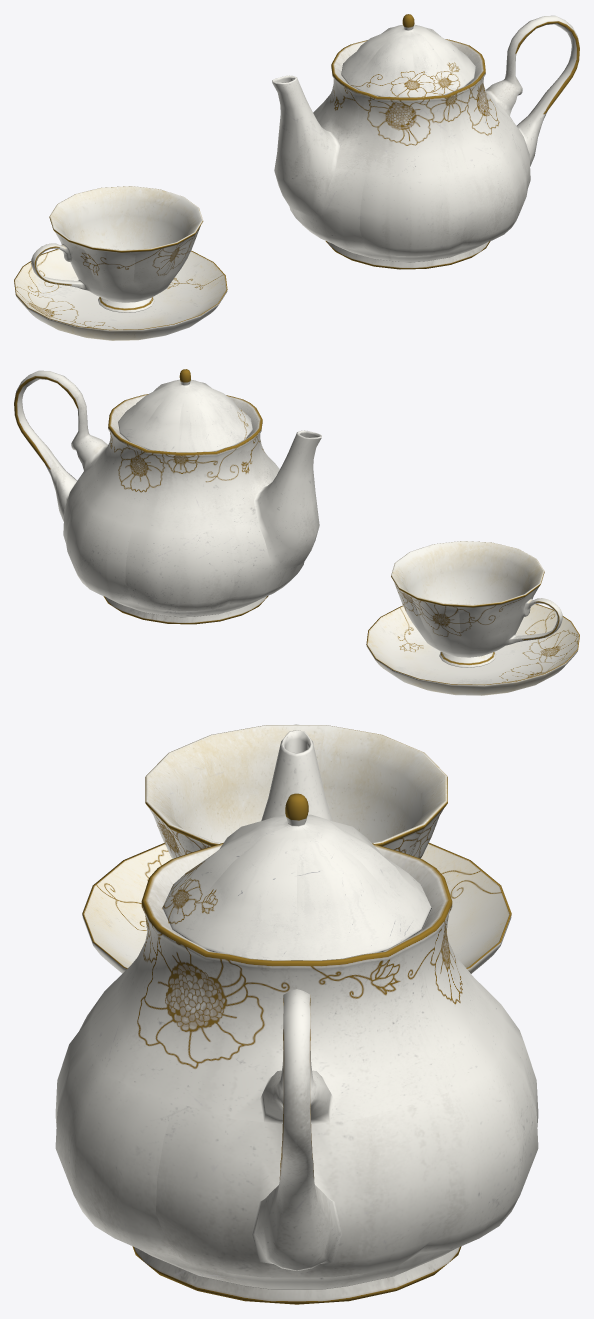
File: teaset.fbx
3 renders of one model, top to bottom at view 1: azimuth 30°, elevation 25°; view 2: azimuth 150°, elevation 25°; view 3: azimuth 270°, elevation 25°, orthographic. The views are drawn at different scales.
Visible parts, largest first — view 1: pCylinder8, pCylinder7, pCylinder5, pCylinder4; view 2: pCylinder8, pCylinder7, pCylinder5, pCylinder4; view 3: pCylinder8, pCylinder4, pCylinder7, pCylinder5.
Boxes of the visible parts, x1,y1,x2,y2 form: pCylinder8: [272, 15, 579, 269]; pCylinder7: [31, 186, 203, 312]; pCylinder5: [14, 249, 227, 340]; pCylinder4: [341, 14, 475, 97]; pCylinder8: [14, 370, 321, 624]; pCylinder7: [391, 541, 562, 667]; pCylinder5: [366, 604, 579, 695]; pCylinder4: [118, 369, 252, 452]; pCylinder8: [55, 730, 538, 1304]; pCylinder4: [162, 793, 431, 960]; pCylinder7: [145, 724, 447, 858]; pCylinder5: [82, 842, 511, 973].
Size of the model in its own units: 38.89 by 14.87 by 14.76.
